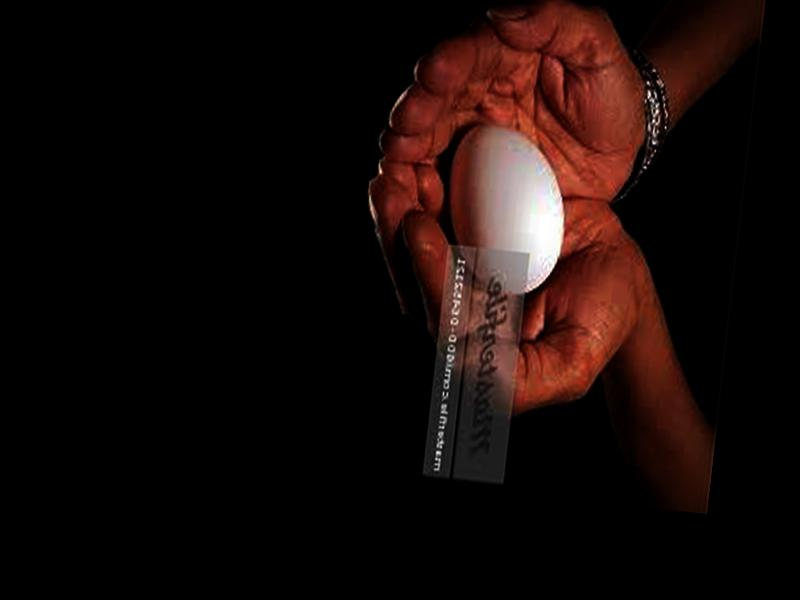Eggs: (436, 119, 573, 293)
